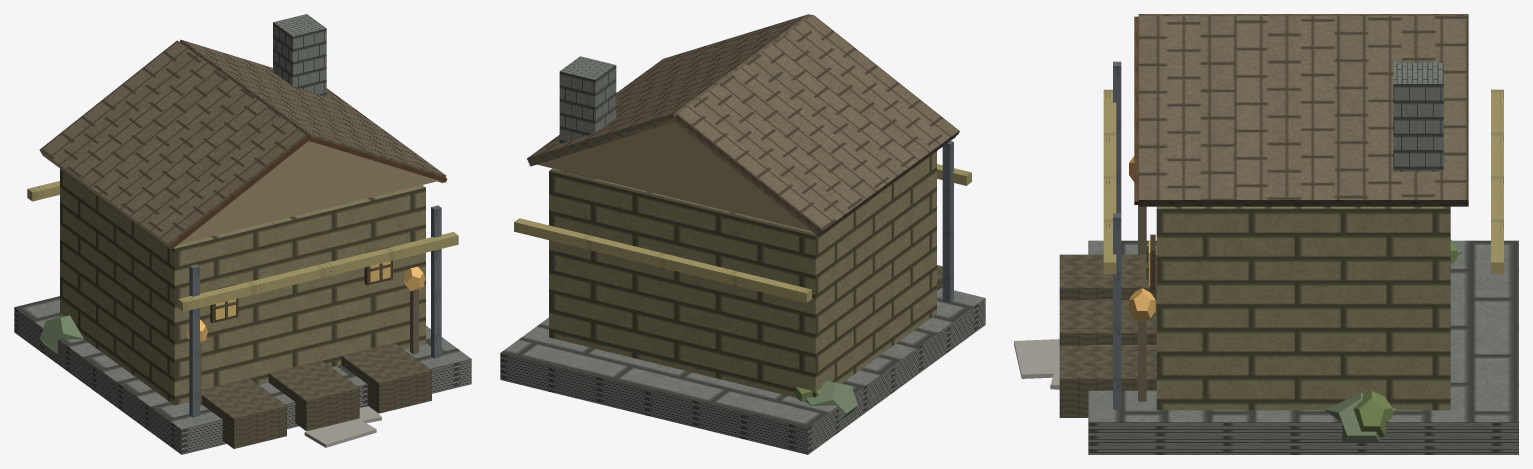
Rendered from procedural_nitrate@3.glb.
The picture shows the model from 3 angles, left to right: view 1: azimuth 30°, elevation 25°; view 2: azimuth 150°, elevation 25°; view 3: azimuth 270°, elevation 25°; orthographic projection. The views are drawn at different scales.
Visible parts, largest first — view 1: part_0, part_1, part_7, part_25, part_2, part_29, part_30, part_3, part_27, part_26, part_12, part_17 (+4 smaller); view 2: part_0, part_1, part_25, part_2, part_28, part_30, part_26, part_17; view 3: part_0, part_1, part_25, part_7, part_30, part_28, part_29, part_27, part_12, part_20, part_19, part_26 (+3 smaller).
Boxes of the visible parts, bbox=[...] form: part_0: bbox=[60, 168, 425, 405]; part_1: bbox=[39, 39, 446, 249]; part_7: bbox=[201, 343, 431, 448]; part_25: bbox=[14, 296, 471, 454]; part_2: bbox=[178, 141, 438, 244]; part_29: bbox=[178, 232, 458, 311]; part_30: bbox=[273, 14, 326, 96]; part_3: bbox=[168, 135, 446, 249]; part_27: bbox=[431, 205, 441, 358]; part_26: bbox=[189, 264, 199, 417]; part_12: bbox=[304, 421, 376, 447]; part_17: bbox=[39, 315, 83, 353]; part_0: bbox=[549, 151, 936, 397]; part_1: bbox=[527, 14, 958, 236]; part_25: bbox=[500, 287, 985, 454]; part_2: bbox=[535, 118, 818, 232]; part_28: bbox=[514, 218, 811, 302]; part_30: bbox=[559, 56, 616, 179]; part_26: bbox=[942, 141, 953, 302]; part_17: bbox=[805, 380, 857, 421]; part_0: bbox=[1156, 206, 1450, 410]; part_1: bbox=[1138, 14, 1468, 206]; part_25: bbox=[1088, 240, 1518, 454]; part_7: bbox=[1059, 254, 1156, 417]; part_30: bbox=[1393, 62, 1443, 171]; part_28: bbox=[1491, 89, 1503, 274]; part_29: bbox=[1103, 89, 1116, 274]; part_27: bbox=[1113, 213, 1121, 409]; part_12: bbox=[1014, 339, 1059, 378]; part_20: bbox=[1353, 391, 1392, 437]; part_19: bbox=[1325, 393, 1396, 441]; part_26: bbox=[1113, 61, 1121, 213].
Bounding box in the file's own units: 6.26 × 5.52 × 7.04.
Materials: 19 (10 with a texture image).
